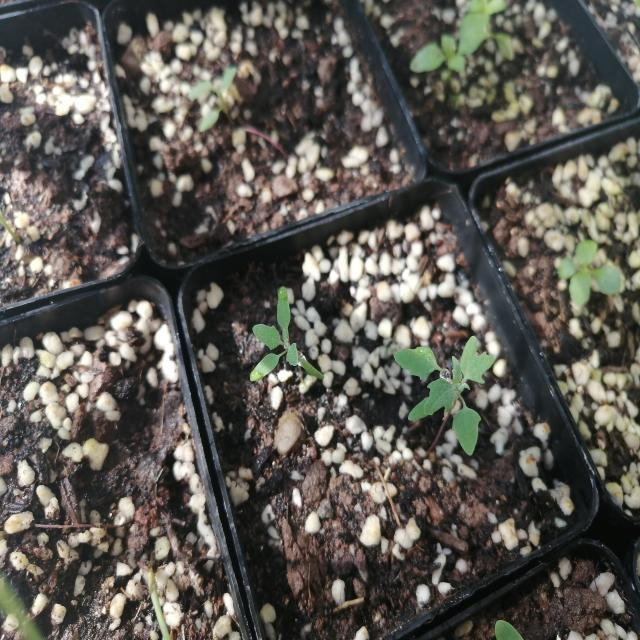goosefoots: (233, 277, 333, 413), (400, 338, 504, 456)
